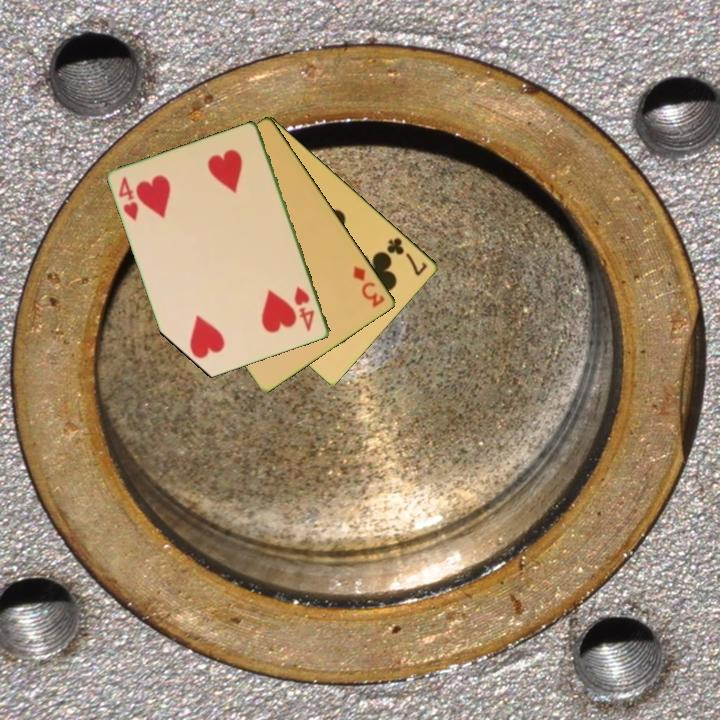3d: (350, 262, 388, 310)
4h: (291, 283, 318, 334), (115, 173, 142, 224)
7c: (383, 234, 431, 279)
